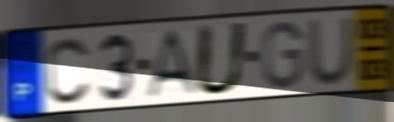3: (98, 30, 135, 104)
A: (144, 27, 201, 101)
C: (45, 35, 93, 107)
G: (260, 19, 305, 91)
U: (193, 20, 251, 99), (306, 14, 357, 87)
